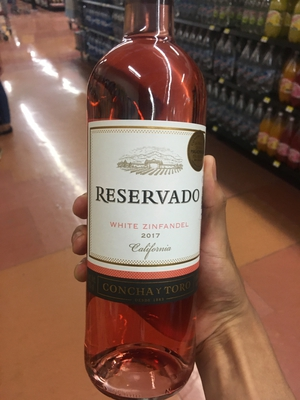reservado white zinfandel: (87, 10, 208, 400)
